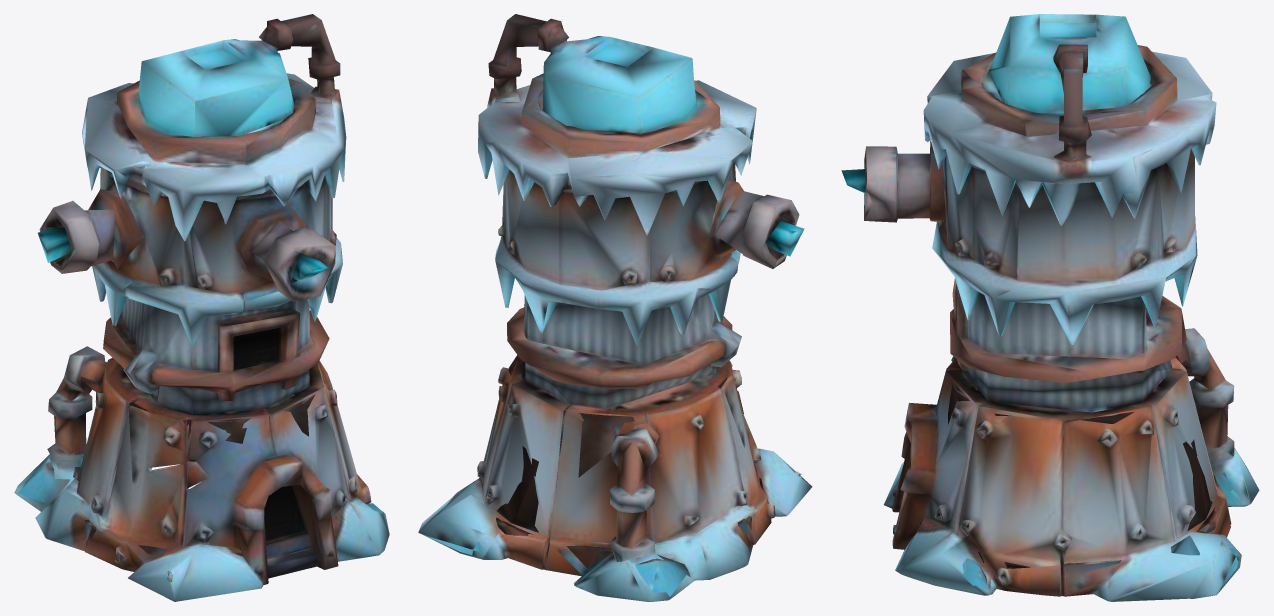
File: jiansuta-2.glb
The picture shows the model from 3 angles, left to right: view 1: azimuth 30°, elevation 25°; view 2: azimuth 150°, elevation 25°; view 3: azimuth 270°, elevation 25°; orthographic projection. The views are drawn at different scales.
Visible parts, largest first — view 1: node_0; view 2: node_0; view 3: node_0.
Part boxes in pixels (x1,y1,x2,y2): node_0: [14, 14, 389, 601]; node_0: [418, 14, 812, 601]; node_0: [841, 14, 1259, 601].
Size of the model in its own units: 0.6353 by 0.9019 by 0.6635.
Materials: 1 (1 with a texture image).
